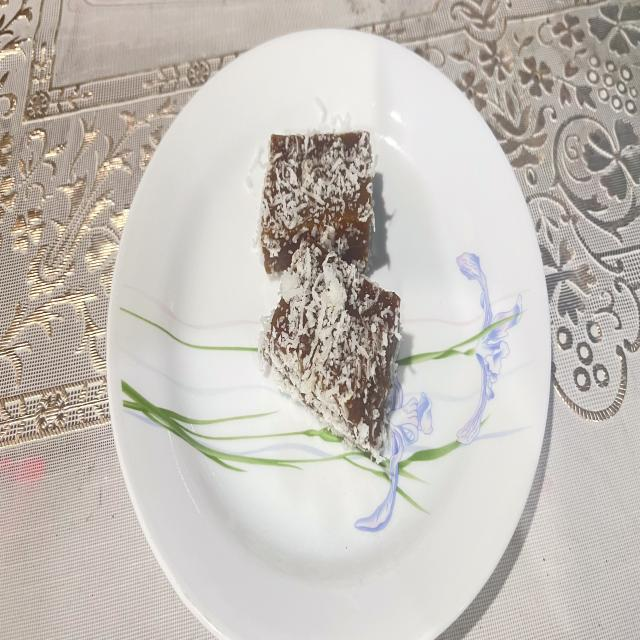kaswi: (260, 240, 401, 460), (260, 131, 374, 273)
